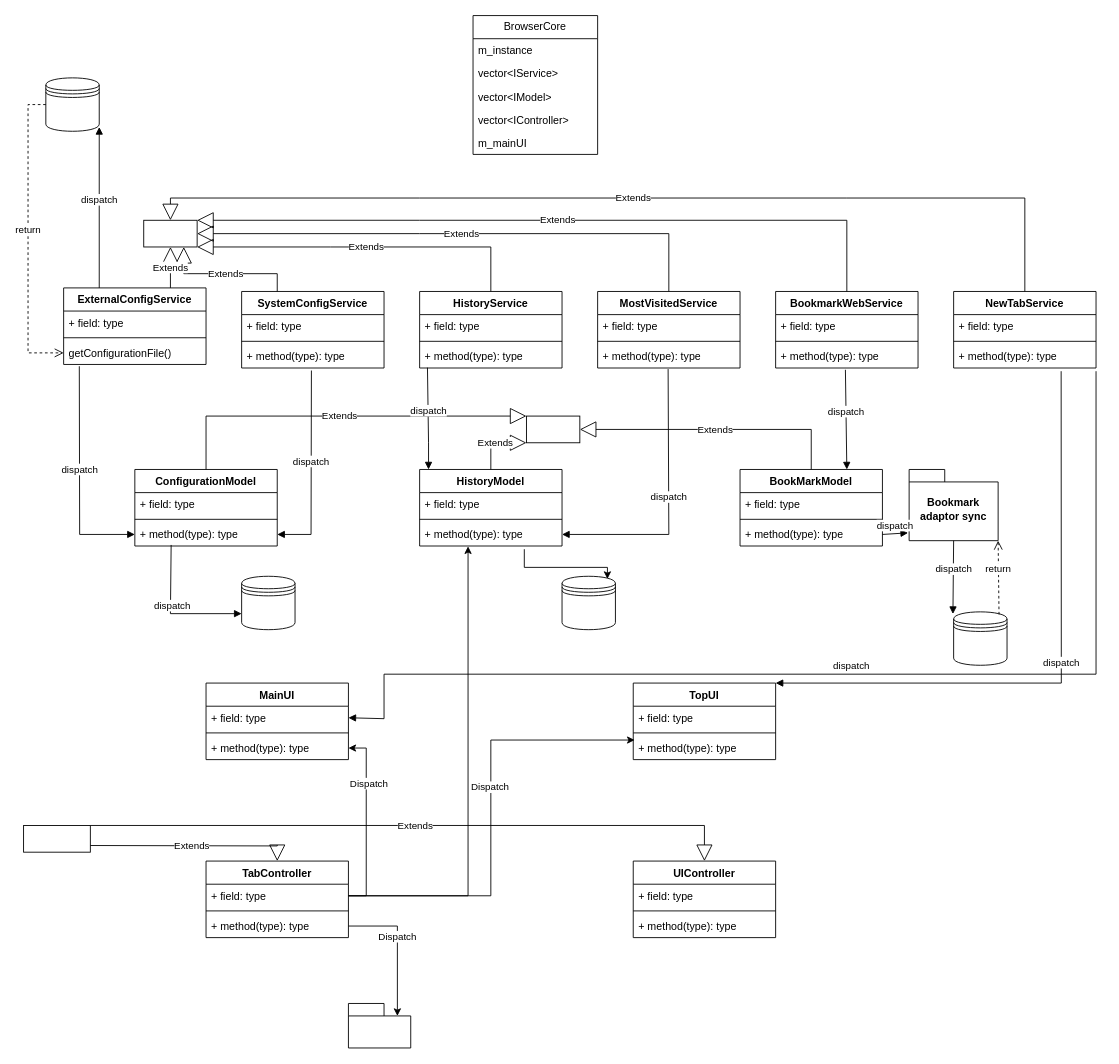
This 1119x1064 diagram has some shape labels left out. The shapes that lost their labels are listed below. From the top down, each one's centre as x and y in pixels, then its label:
point 72,104: Server
point 170,233: IService
point 553,429: IModel
point 268,602: Config Table
point 588,602: History Table
point 980,638: Sync Server
point 56,838: IController
point 379,1025: Chromium
